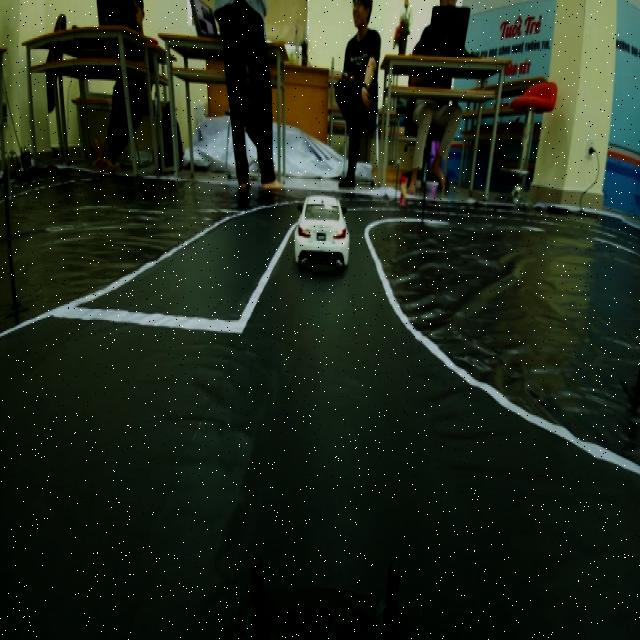car: (291, 188, 357, 271)
